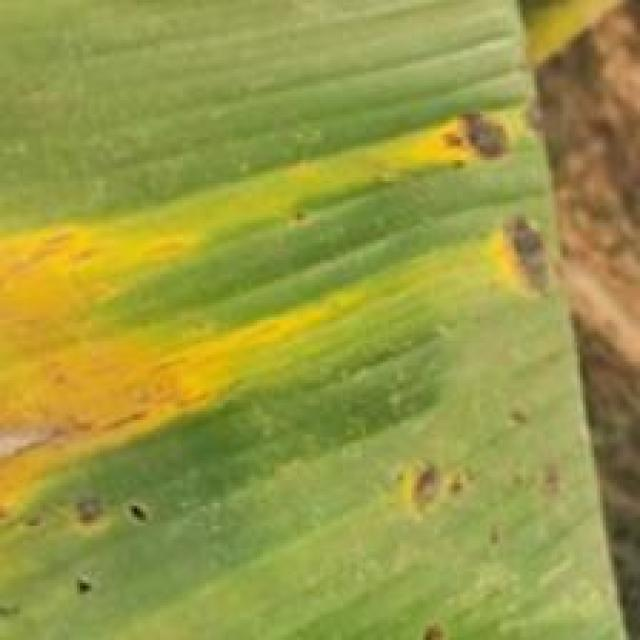Downey_mildrew: (0, 105, 594, 640)
